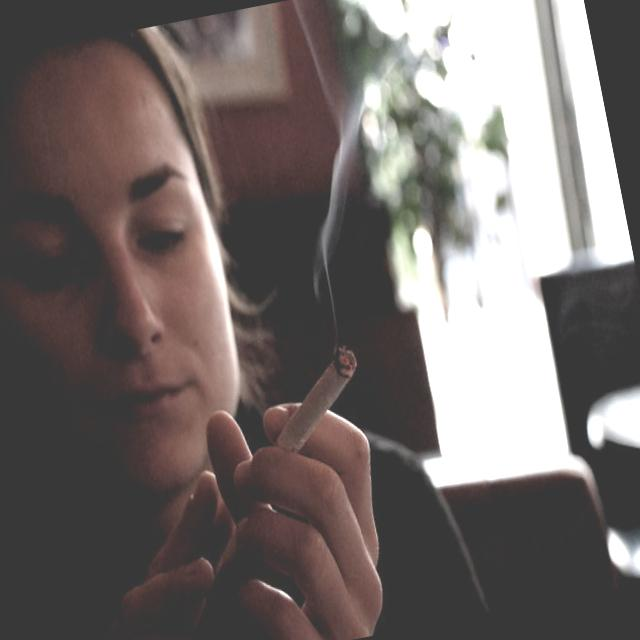cigarette: (260, 344, 376, 460)
